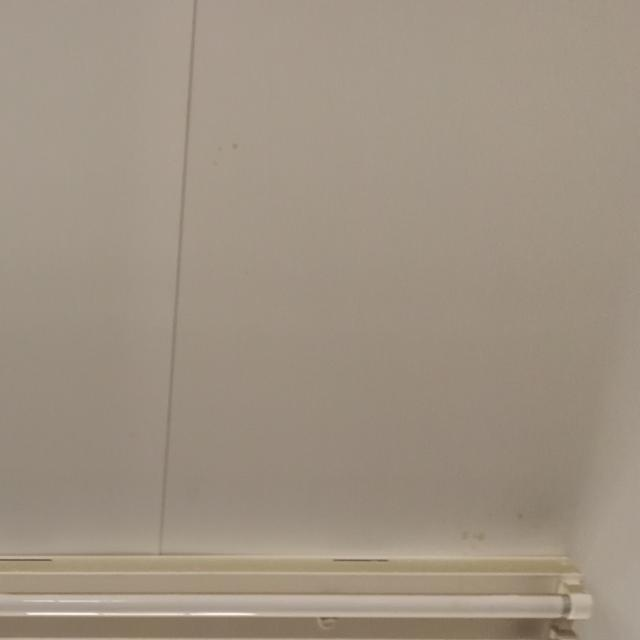fluorescent tube: (0, 505, 605, 640)
